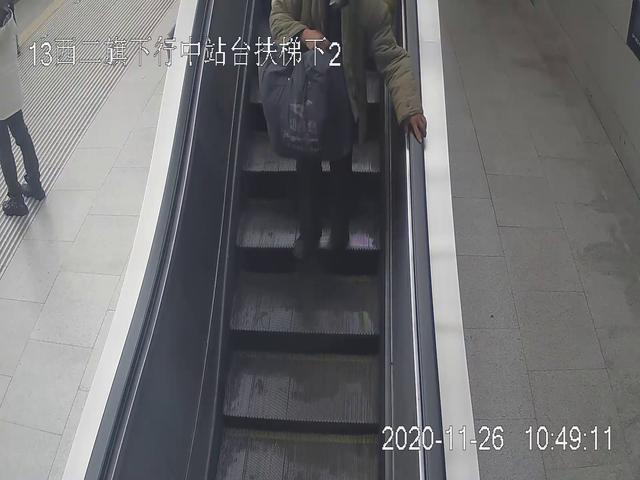person: (268, 1, 428, 256)
